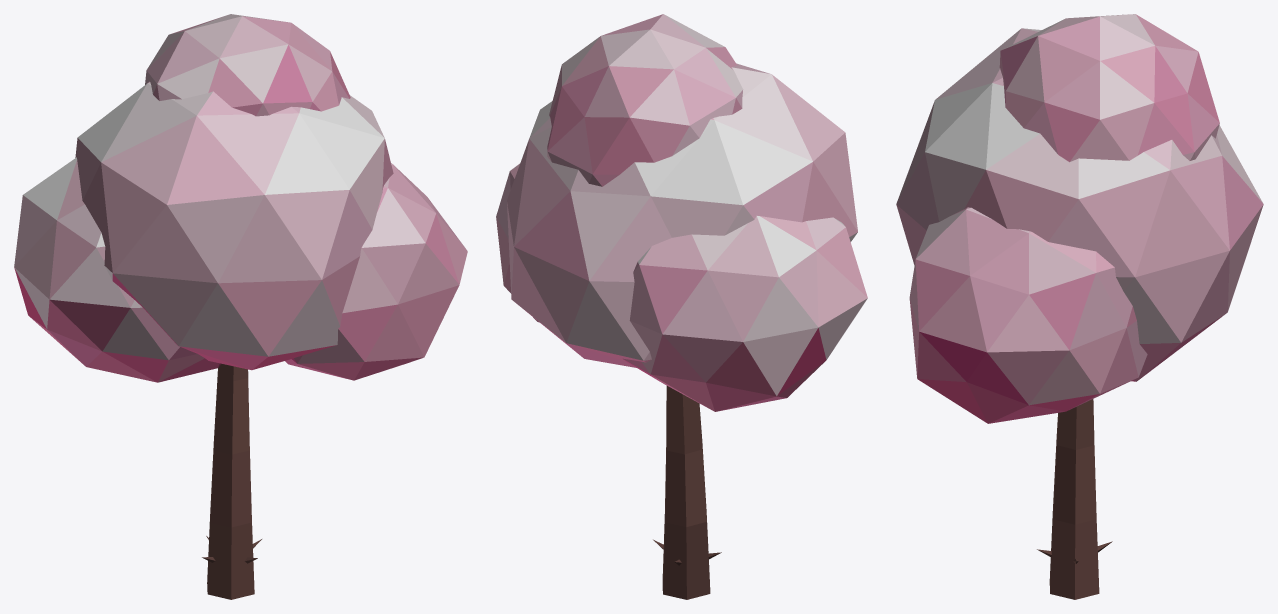
Rendered from Tree_Blossom_A.fbx.
The picture shows the model from 3 angles, left to right: view 1: azimuth 30°, elevation 25°; view 2: azimuth 150°, elevation 25°; view 3: azimuth 270°, elevation 25°; orthographic projection. The views are drawn at different scales.
Visible parts, largest first — view 1: Tree_Blossom_A; view 2: Tree_Blossom_A; view 3: Tree_Blossom_A.
Boxes of the visible parts, box(x1,y1,x2,y2) form: Tree_Blossom_A: box(14, 14, 467, 599); Tree_Blossom_A: box(496, 14, 867, 599); Tree_Blossom_A: box(896, 14, 1263, 599).
Size of the model in its own units: 3.19 by 4.53 by 2.59.
